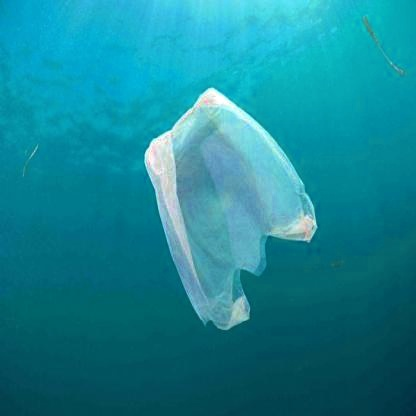pbag: (138, 78, 321, 335)
